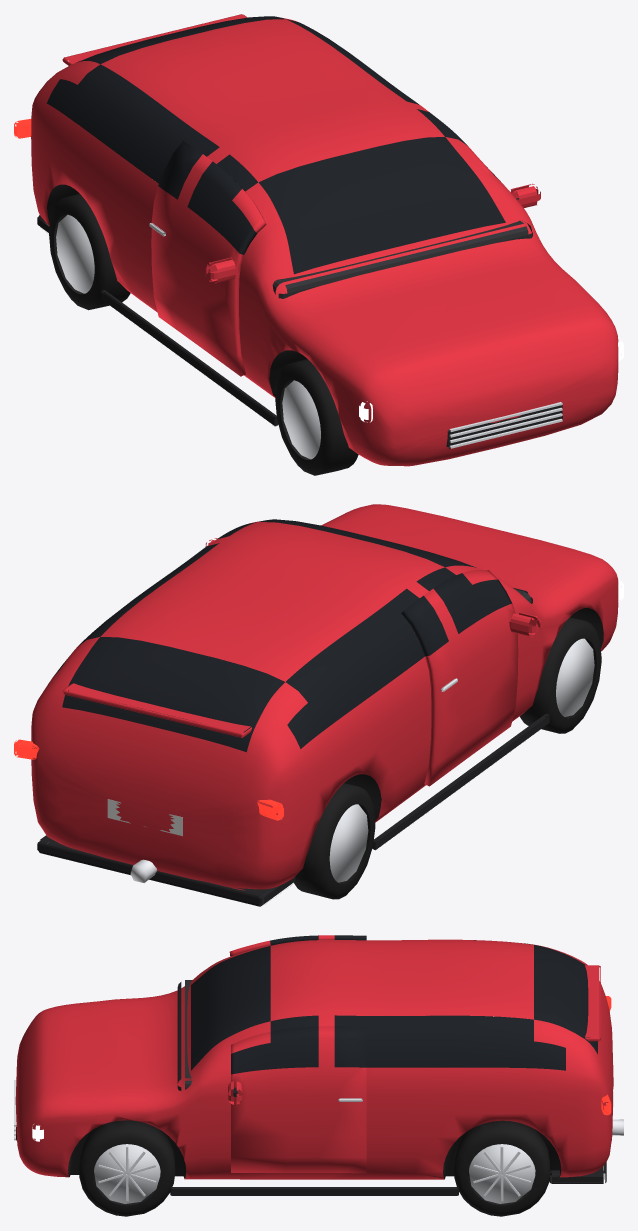
File: orion.glb
3 views of the same model, one above another, from view 1: azimuth 30°, elevation 25°; view 2: azimuth 150°, elevation 25°; view 3: azimuth 270°, elevation 25° (orthographic). The views are drawn at different scales.
Visible parts, largest first — view 1: body, door_R, tire.001, tire.003, dash, skirt.001, rim.003, rim.001, grille, wing, mirror.001; view 2: body, door_R, tire.003, tire.001, diffuser, wing, skirt.001, rim.003, rim.001, mirror.001; view 3: body, door_L, tire, tire.002, rim, rim.002, skirt, wing, dash, door_R, diffuser.
Boxes of the visible parts, box(x1,y1,x2,y2) form: body: box(31, 16, 618, 466); door_R: box(151, 140, 266, 376); tire.001: box(275, 359, 358, 475); tire.003: box(49, 193, 130, 310); dash: box(272, 220, 532, 298); skirt.001: box(101, 290, 278, 426); rim.003: box(56, 214, 94, 293); rim.001: box(282, 380, 320, 459); grille: box(446, 402, 562, 448); wing: box(62, 14, 247, 65); mirror.001: box(205, 257, 239, 283); body: box(31, 504, 618, 890); door_R: box(401, 570, 518, 786); tire.003: box(293, 783, 375, 899); tire.001: box(519, 617, 601, 733); diffuser: box(37, 835, 295, 906); wing: box(62, 683, 251, 737); skirt.001: box(372, 713, 549, 850); rim.003: box(329, 804, 368, 882); rim.001: box(556, 638, 594, 716); mirror.001: box(509, 611, 540, 637); body: box(15, 939, 613, 1179); door_L: box(231, 1026, 366, 1173); tire: box(79, 1120, 175, 1216); tire.002: box(454, 1120, 549, 1216); rim: box(94, 1144, 160, 1203); rim.002: box(469, 1144, 535, 1203); skirt: box(170, 1187, 458, 1195); wing: box(585, 965, 600, 1041); dash: box(177, 980, 192, 1090); door_R: box(229, 935, 366, 1015); diffuser: box(549, 1162, 606, 1183).
Size of what is drawn, in the model's own units: 2.2 by 1.46 by 4.23.
